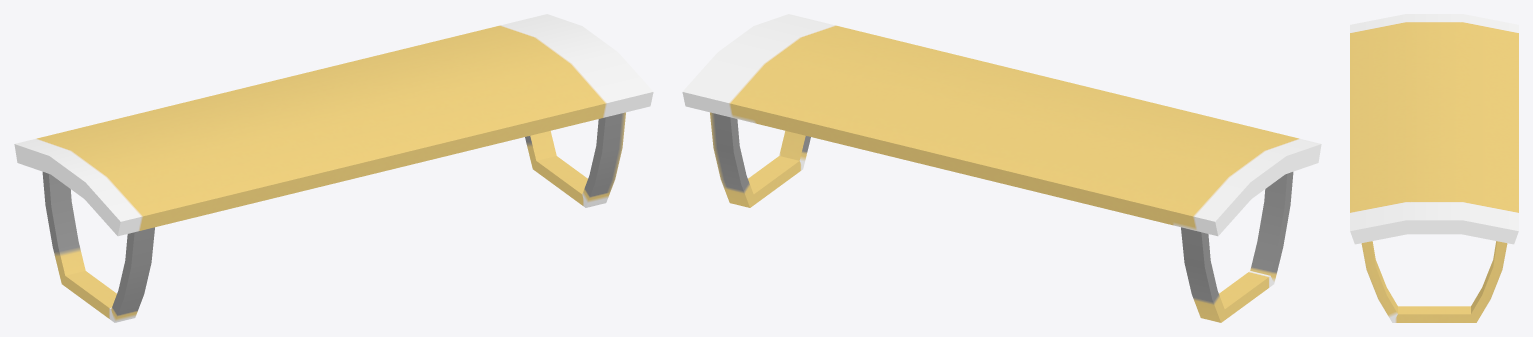
Rendered from Bench.glb.
The picture shows the model from 3 angles, left to right: view 1: azimuth 30°, elevation 25°; view 2: azimuth 150°, elevation 25°; view 3: azimuth 270°, elevation 25°; orthographic projection. The views are drawn at different scales.
Parts seen in each view (by area): view 1: bench; view 2: bench; view 3: bench.
Part boxes in pixels (x1,y1,x2,y2): bench: [14, 14, 653, 322]; bench: [682, 14, 1321, 322]; bench: [1350, 14, 1518, 322].
Bounding box in the file's own units: 1.11 × 0.2773 × 0.3836.
1 material, 1 textured.
